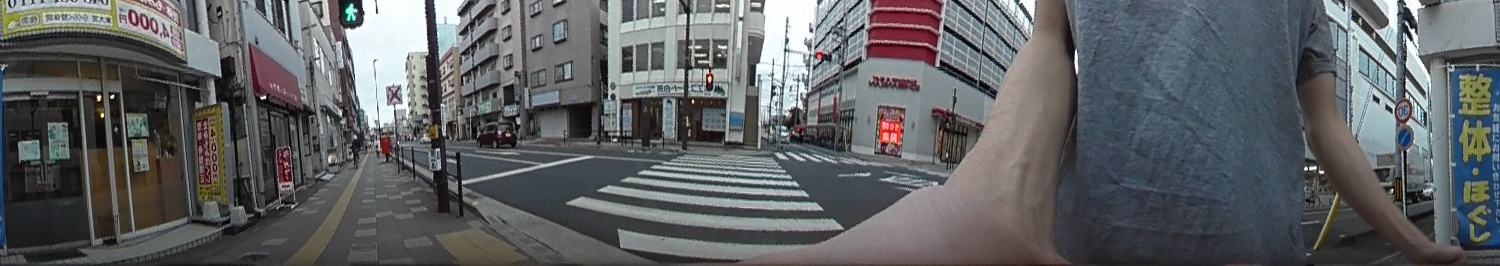difficult_person: (350, 134, 361, 164)
